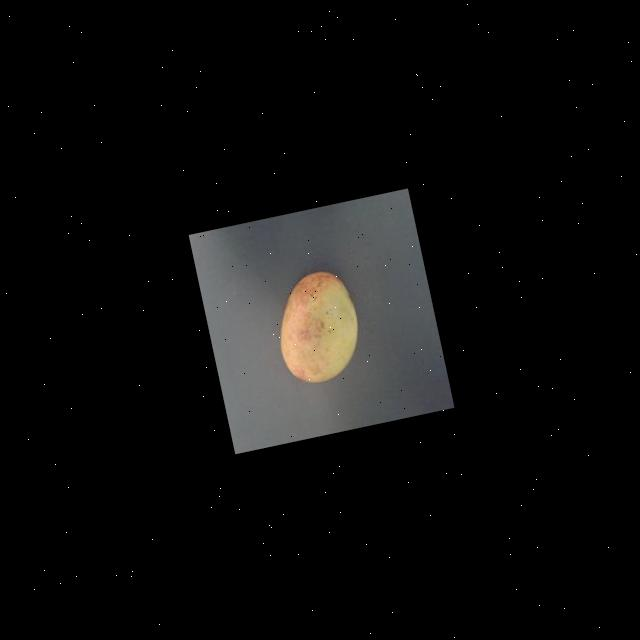Mango: (266, 265, 368, 389)
